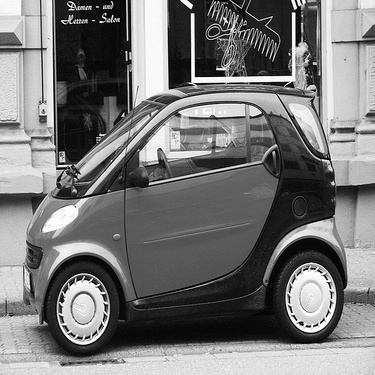car: (10, 72, 354, 340)
